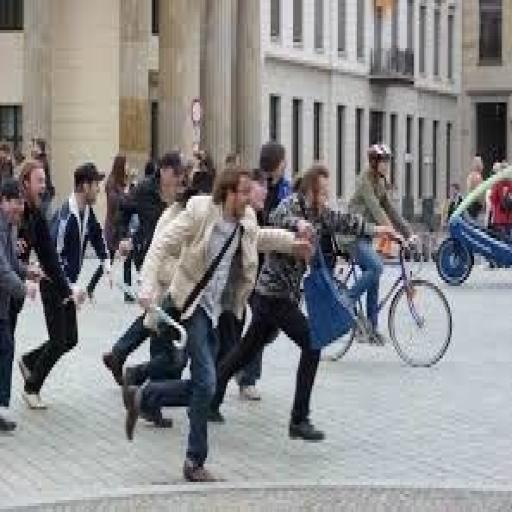running: (121, 160, 322, 485)
